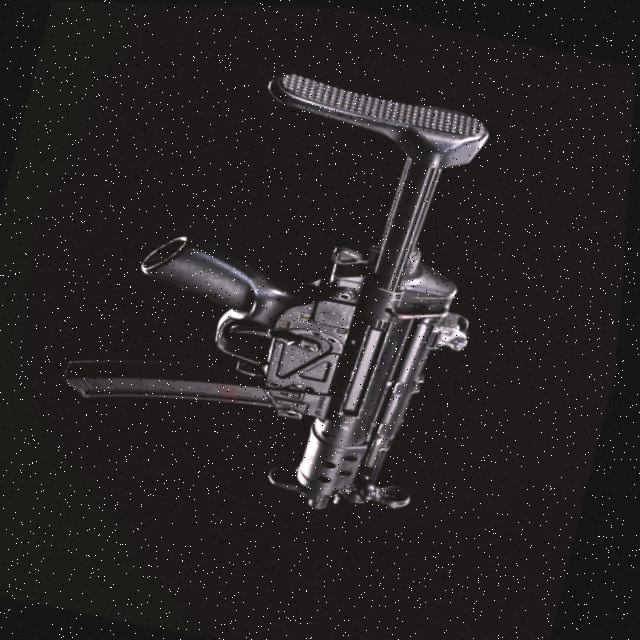firearm: (44, 38, 537, 531)
